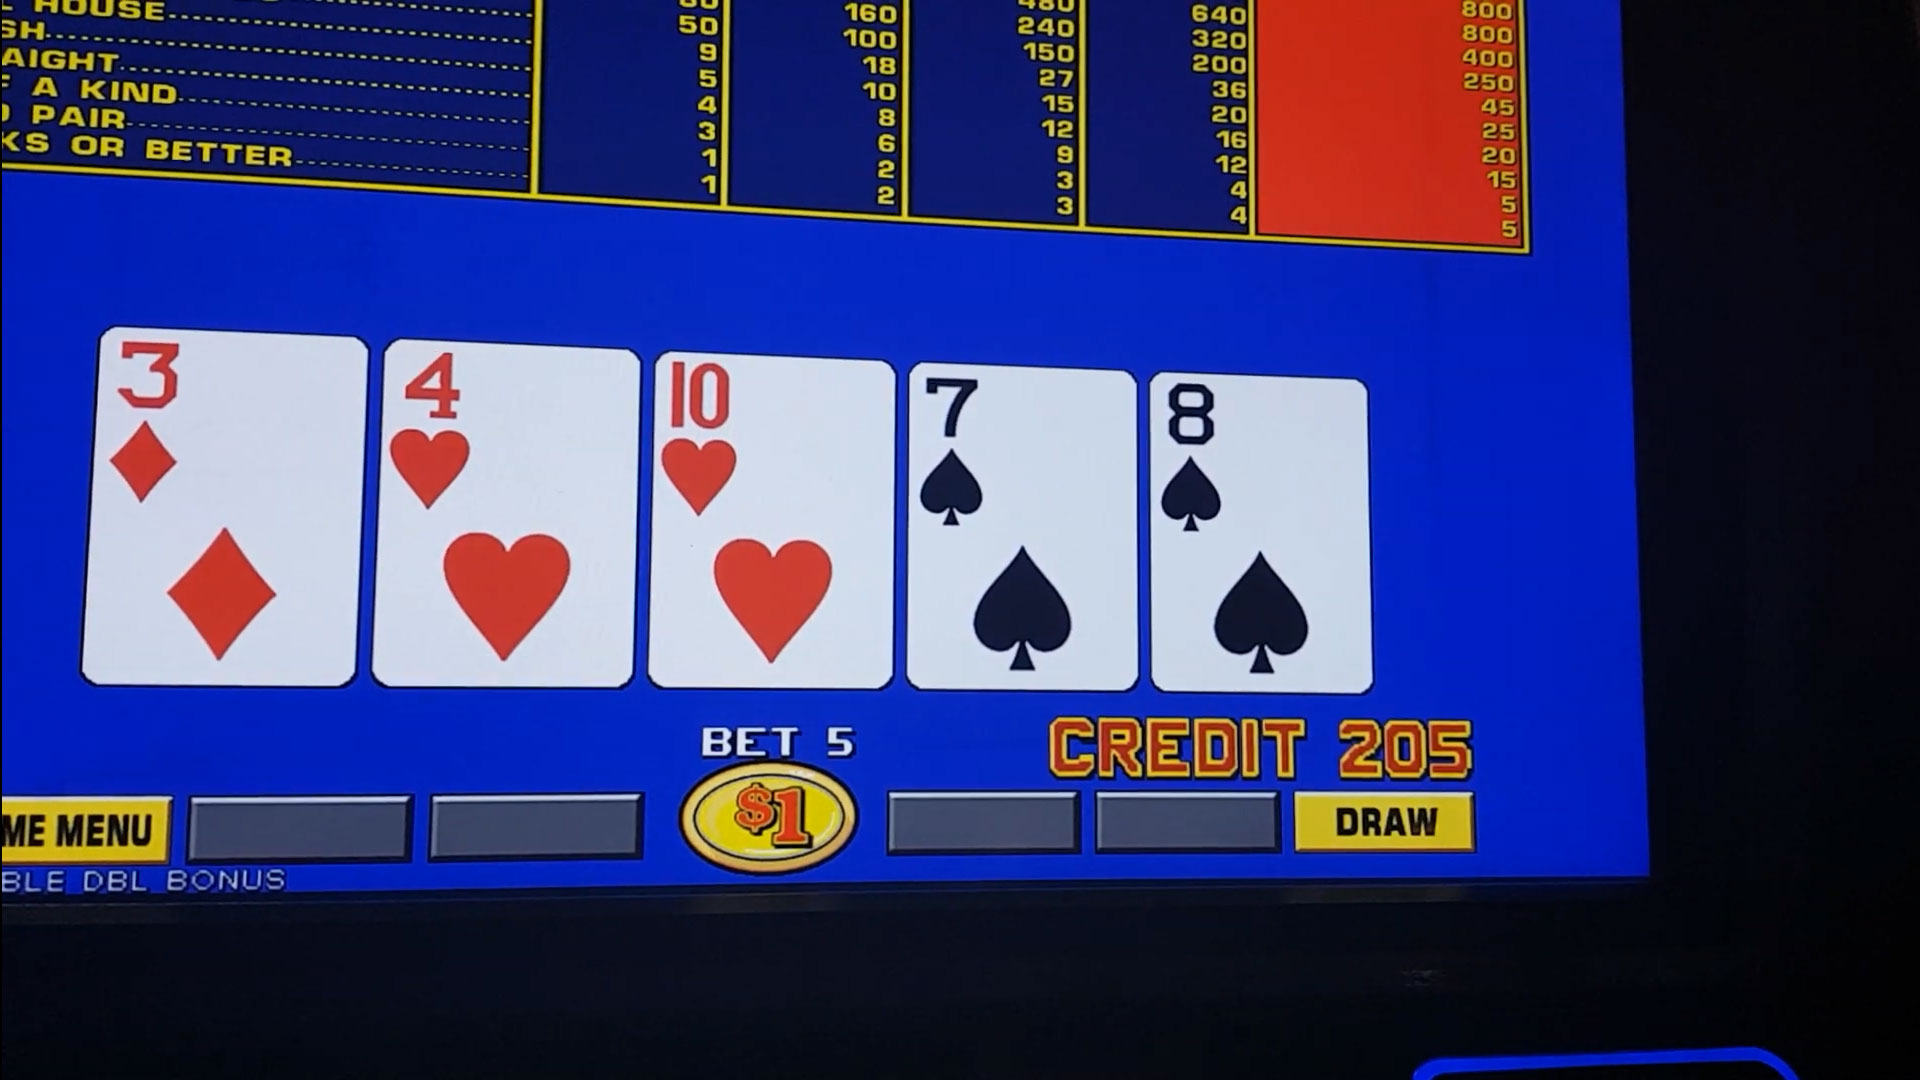D3: (109, 342, 359, 514)
H4: (386, 351, 636, 525)
HT: (655, 364, 881, 539)
S7: (915, 372, 1134, 534)
S8: (1155, 384, 1360, 542)
